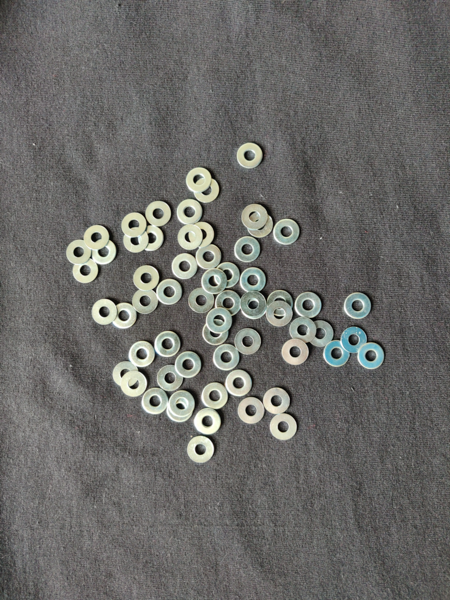circle: (194, 408, 222, 436), (263, 387, 290, 415), (226, 370, 253, 398), (358, 343, 385, 370), (324, 340, 351, 367), (235, 328, 262, 355), (206, 307, 233, 334), (138, 225, 165, 252), (156, 279, 183, 306), (169, 391, 196, 418), (142, 388, 169, 415), (238, 397, 264, 425), (341, 327, 367, 354), (307, 321, 334, 347), (282, 339, 309, 365), (295, 292, 322, 318), (247, 212, 274, 238), (237, 143, 264, 169), (271, 414, 297, 441), (267, 290, 293, 317), (240, 291, 267, 317), (235, 236, 261, 263), (240, 267, 267, 293), (201, 268, 227, 295), (202, 383, 228, 410), (187, 437, 214, 463), (175, 352, 202, 378), (167, 395, 193, 422), (121, 371, 148, 397), (172, 253, 199, 279), (345, 293, 371, 319), (290, 318, 316, 344), (274, 219, 300, 245), (242, 204, 268, 230), (194, 178, 220, 204), (186, 168, 212, 194), (267, 301, 293, 327), (203, 320, 229, 346), (214, 345, 240, 371), (196, 244, 222, 270), (189, 222, 215, 248), (177, 199, 203, 225), (146, 201, 172, 227), (92, 299, 118, 325), (155, 332, 181, 358), (129, 341, 155, 367), (91, 239, 117, 265), (84, 225, 110, 251), (133, 266, 160, 291), (112, 303, 137, 330), (158, 365, 183, 392), (242, 294, 267, 320), (215, 262, 240, 288), (216, 291, 241, 317), (189, 288, 215, 313), (178, 224, 203, 250), (124, 228, 150, 253), (133, 289, 159, 314), (113, 361, 138, 387), (73, 258, 99, 283), (122, 213, 147, 238), (67, 240, 92, 265)
